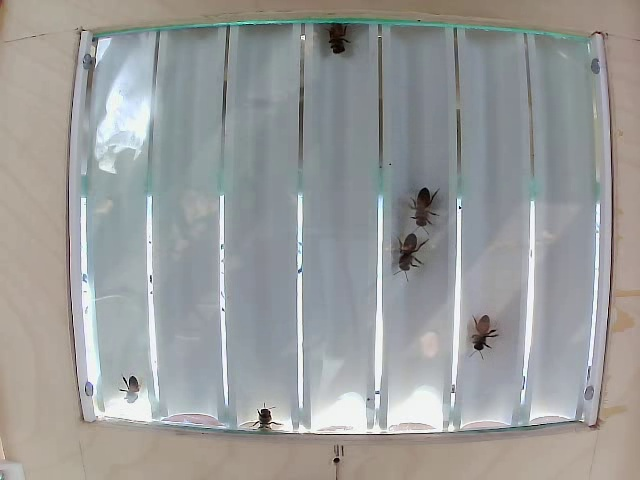bee: (463, 307, 504, 358), (406, 177, 443, 229), (391, 221, 421, 285), (324, 17, 350, 56), (255, 402, 277, 430)
